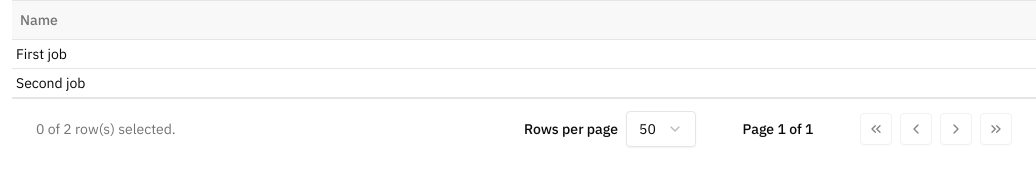
Test: DataTable inline row expansion › keeps only one row expanded at a time
Click the text "First job" at (524, 54), box [12,40,1035,69]
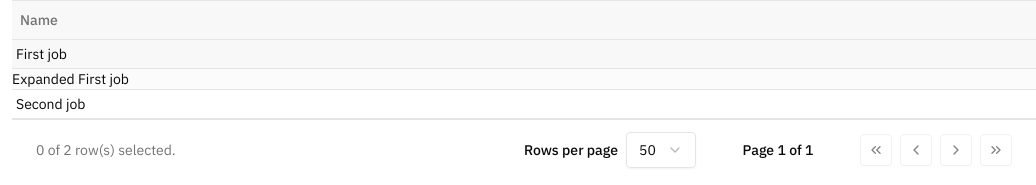
Click the text "Second job" at (524, 104), box [12,90,1035,119]
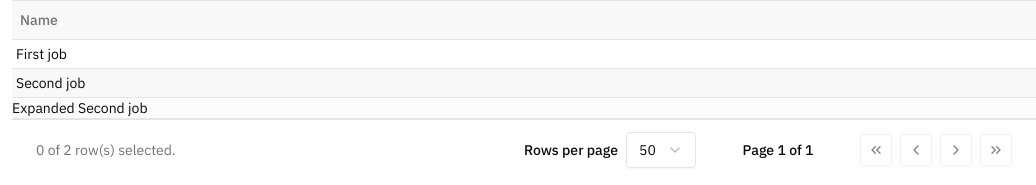
Expected: the text "Expanded First job" is gone
Expected: the text "Expanded Second job" is shown, [12,99,148,117]
